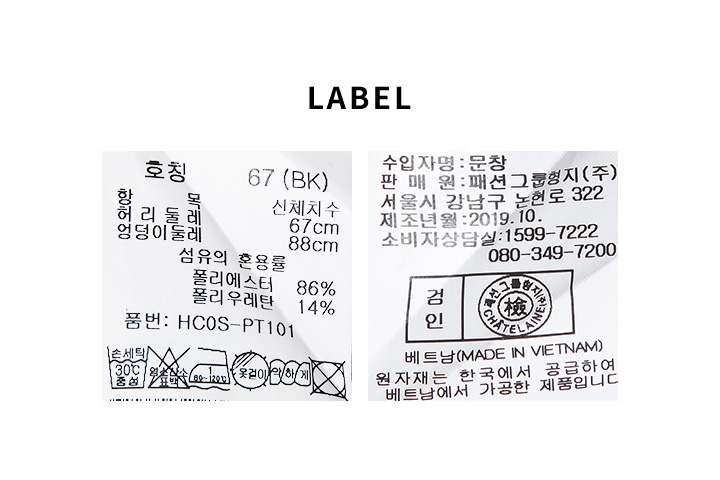KR_gentle_wring: (269, 356, 311, 388)
KR_hand_wash_30_neutral: (104, 344, 149, 392)
KR_hang_dry_in_shade: (230, 349, 268, 391)
KR_iron_low_temp_with_cloth: (188, 344, 231, 392)
KR_no_bleach: (148, 344, 190, 391)
KR_no_tumble_dry: (310, 357, 349, 401)
